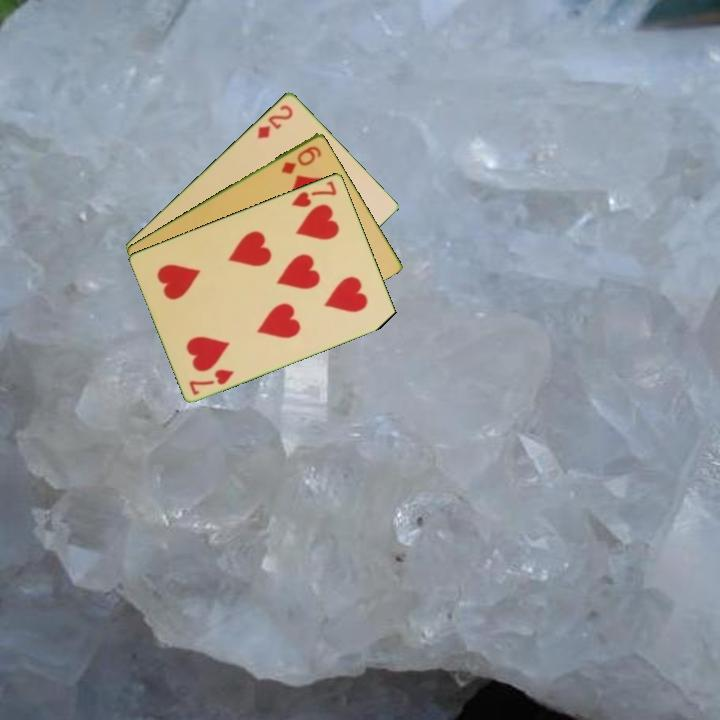2d: (254, 101, 296, 141)
6d: (278, 142, 324, 177)
7h: (288, 177, 340, 210), (186, 365, 237, 398)
